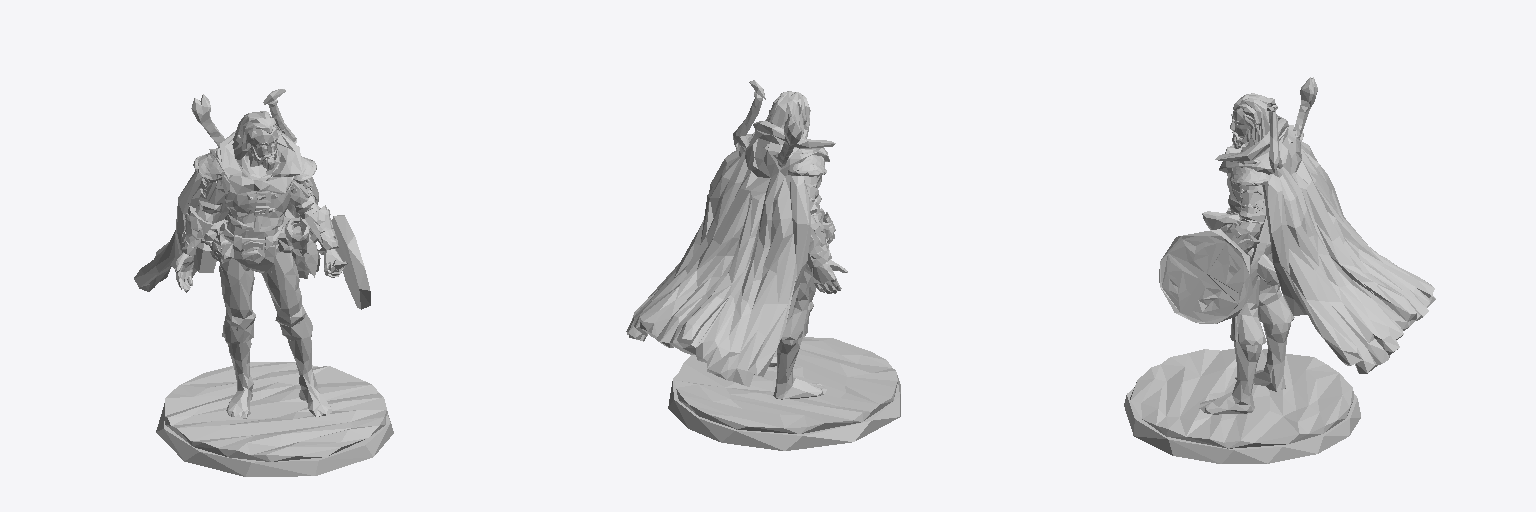
The model's file is Brightstar blender v3 (smallest).obj.
3 renders of one model, left to right at view 1: azimuth 30°, elevation 25°; view 2: azimuth 150°, elevation 25°; view 3: azimuth 270°, elevation 25°, orthographic.
Parts seen in each view (by area): view 1: Brightstar_on_a_Cold_Night_(final_draft).stl; view 2: Brightstar_on_a_Cold_Night_(final_draft).stl; view 3: Brightstar_on_a_Cold_Night_(final_draft).stl.
Boxes of the visible parts, box(x1,y1,x2,y2) form: Brightstar_on_a_Cold_Night_(final_draft).stl: box(134, 89, 393, 476); Brightstar_on_a_Cold_Night_(final_draft).stl: box(626, 80, 900, 450); Brightstar_on_a_Cold_Night_(final_draft).stl: box(1124, 77, 1435, 463).
Bounding box in the file's own units: 2.53 × 3.96 × 3.35.